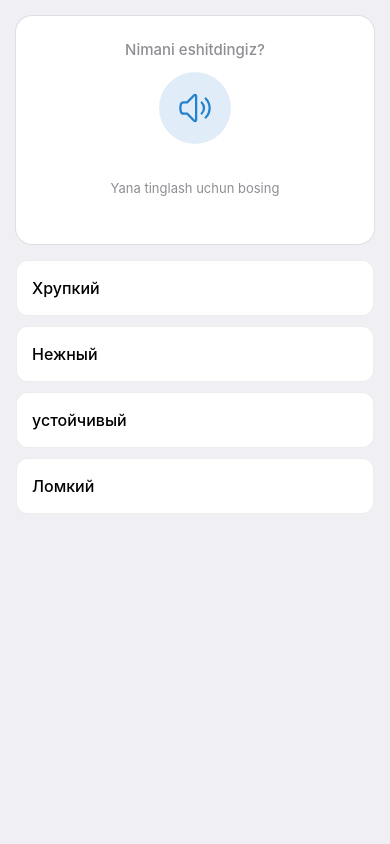
Test case: AudioCard › renders in Uzbek
The image size is (390, 844).
Expected: the text with test id "replay-hint" reads "Yana tinglash uchun bosing", [111,180,279,196]
Click the button with test id "option-0" at [66, 288], box [16,260,374,316]
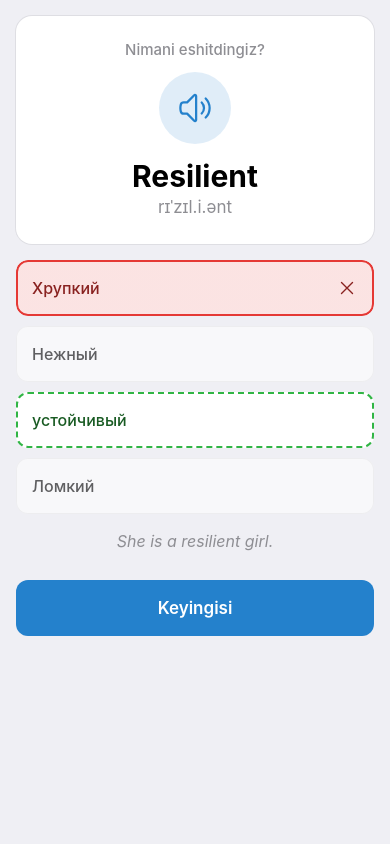
Now the button with test id "continue-btn" reads "Keyingisi", box [16,580,374,636]
